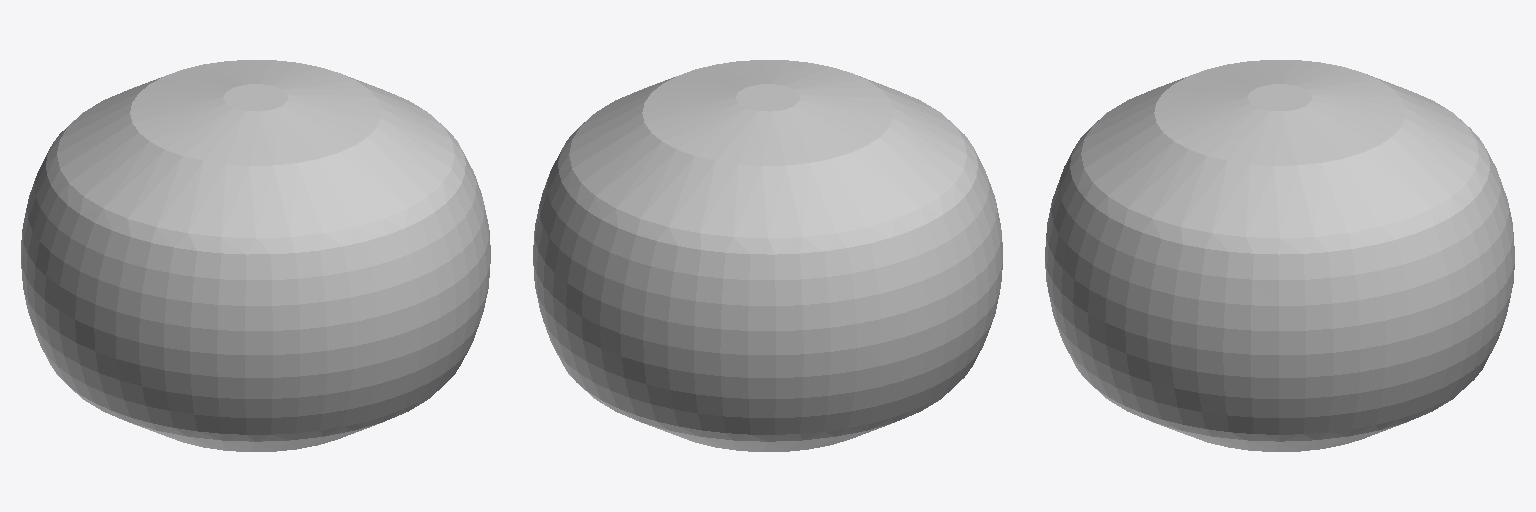
File: r_wheel_link_collision.obj
The picture shows the model from 3 angles: view 1: azimuth 30°, elevation 25°; view 2: azimuth 150°, elevation 25°; view 3: azimuth 270°, elevation 25°; orthographic projection.
Bounding box in the file's own units: 0.1206 × 0.0895 × 0.1206.